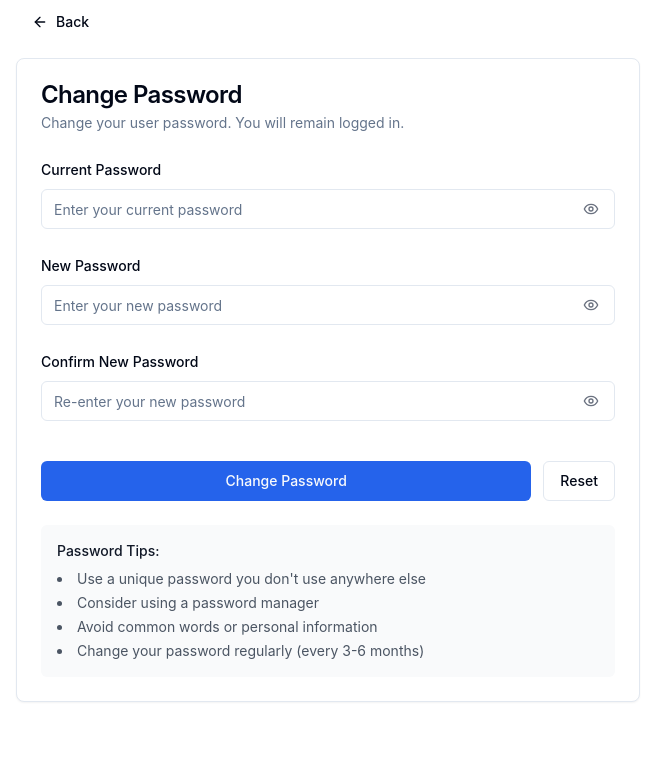
Test: ChangePasswordPage › Form Validation › should show error when current password is empty
This screenshot has width=657, height=778.
Click the button "Change Password".
click(286, 481)  # box [41,461,531,501]
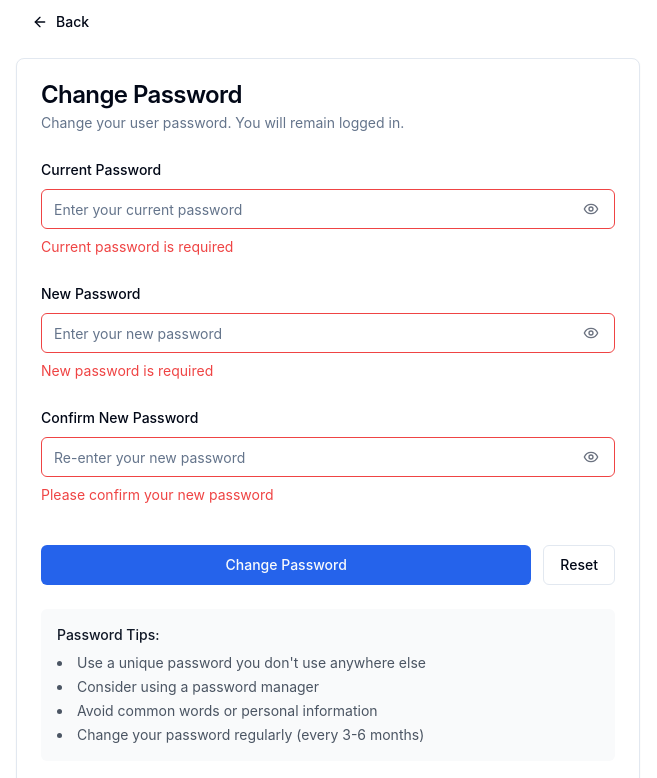
Expected: the text "Current password is required" is shown, [41,238,233,255]
